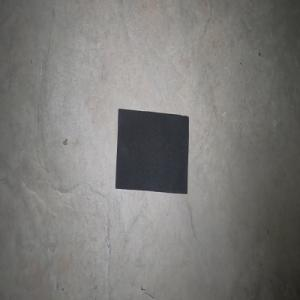PaintChip: (115, 108, 189, 194)
